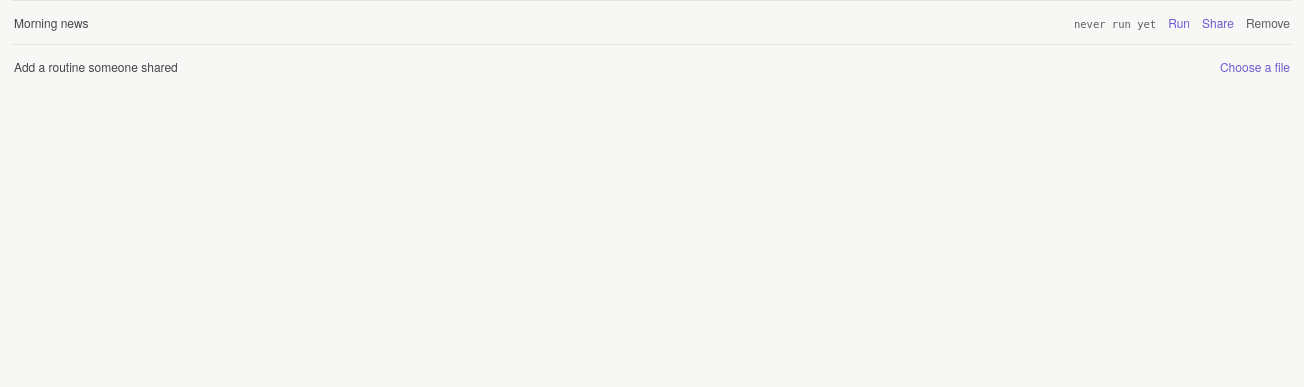
the card that asks about a routine somebody else wrote › says no plainly, and never asks the core, when the person declines
What coordinates should you click on to do the following:
click the button with aria-label "Add a routine someone shared with you"
I would click on:
 (1255, 66)
Its box is x1=1220 y1=58 x2=1290 y2=75.
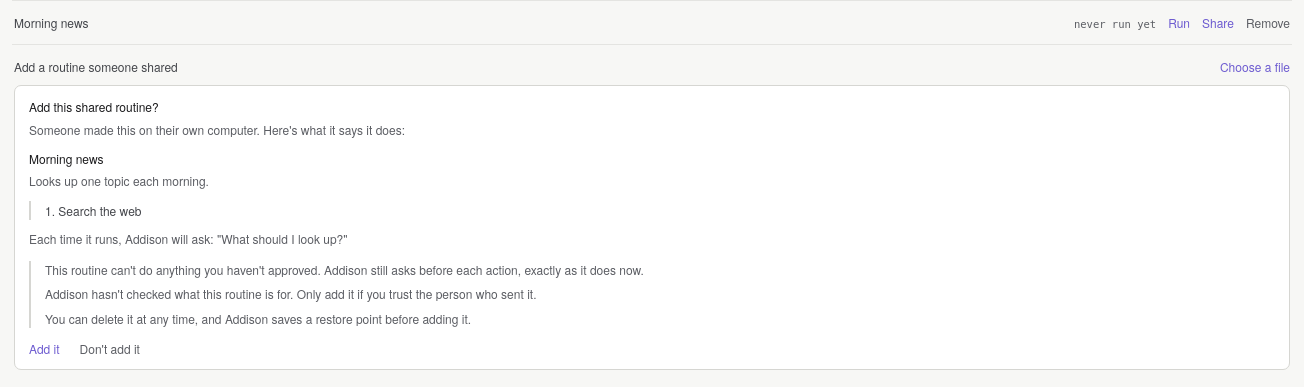
What coordinates should you click on to do the following:
click the button "Don't add it"
I would click on:
 (110, 349)
Its box is x1=80 y1=340 x2=140 y2=357.
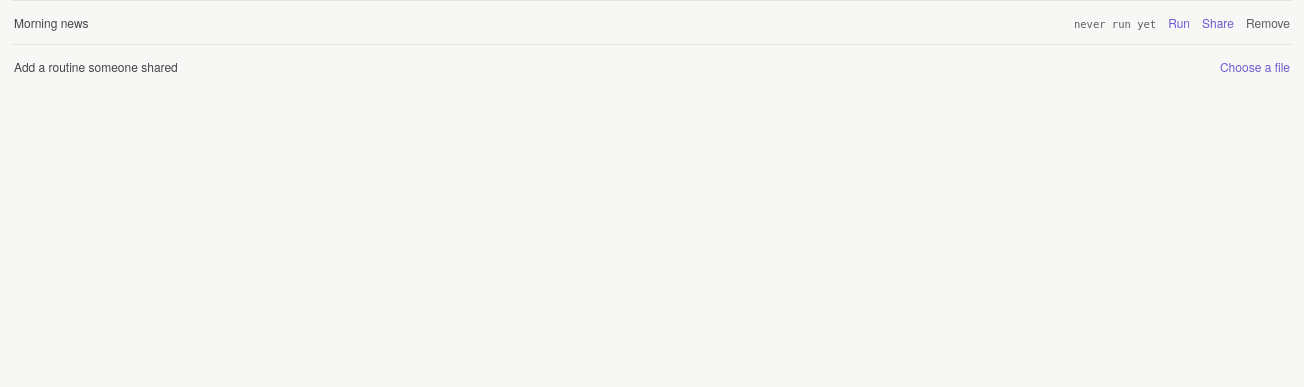
Expected: the heading labelled "Add this shared routine?" is gone
